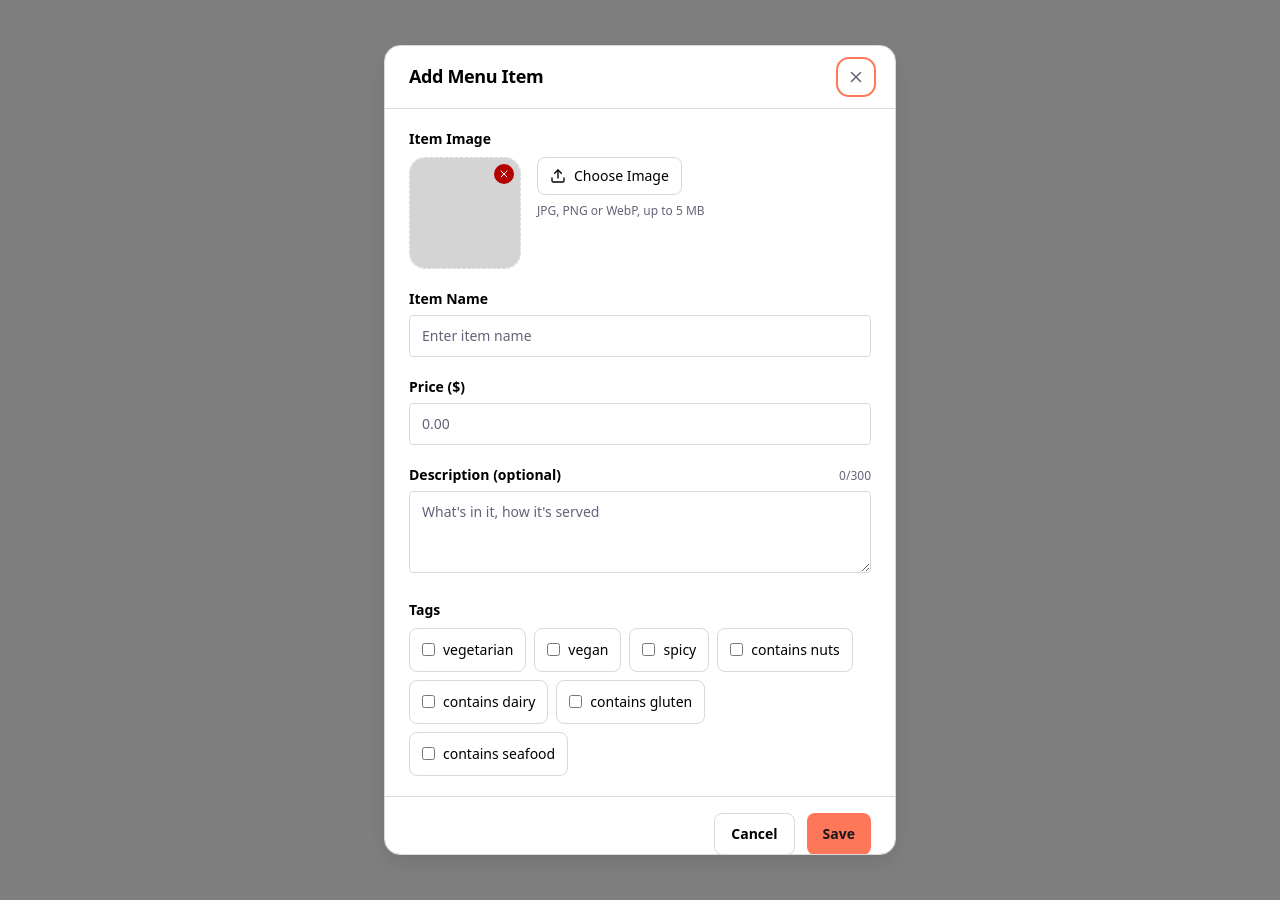
Scenario: adding an item with a photo (PHOTOS-S3) › storage refuses the type: a clear JPG, PNG or WebP message
The width and height of the screenshot is (1280, 900).
Earlier steps of the test are not shown.
Type "Fish Amok" into the field with placeholder "Enter item name" at (640, 336), box [409,315,871,357]
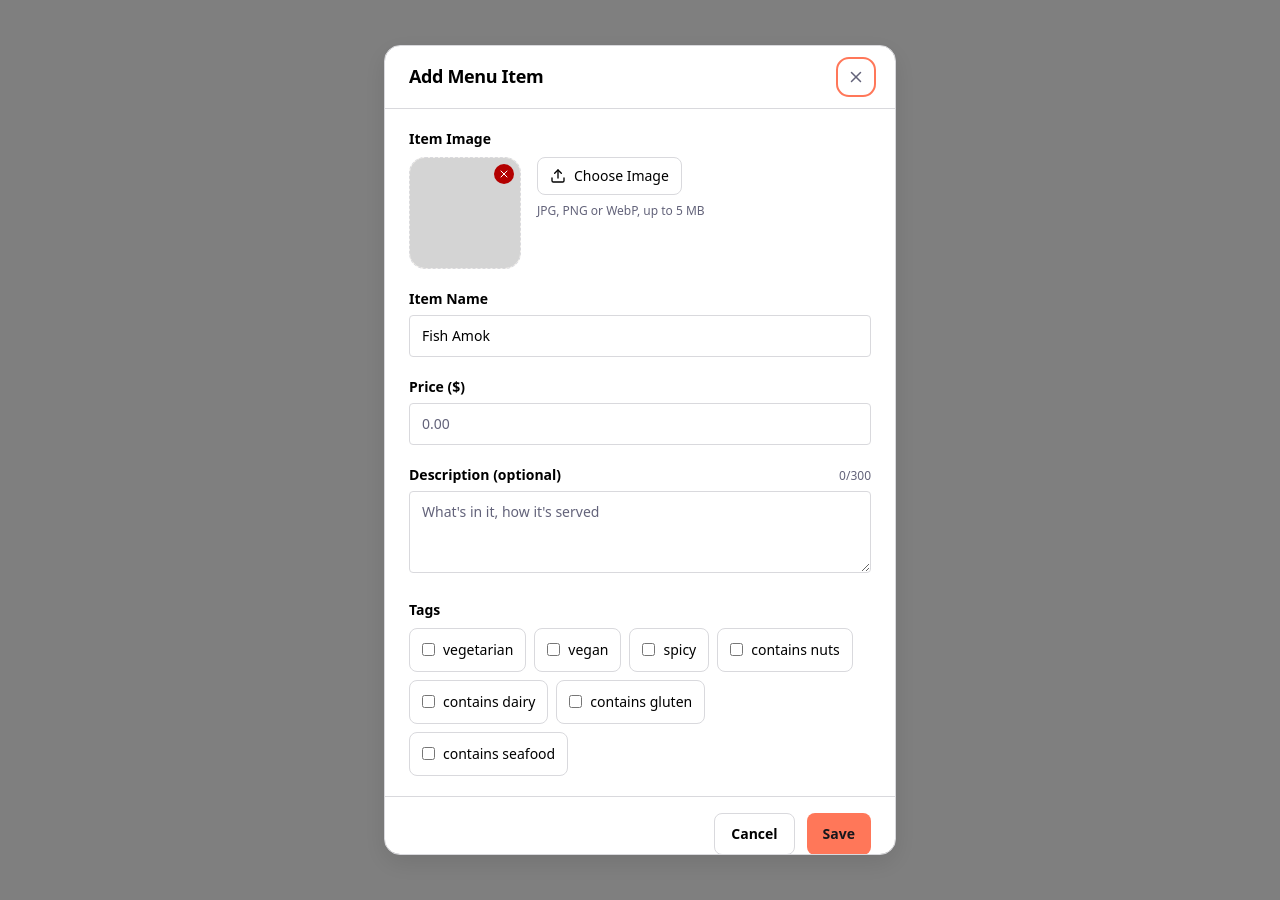
Type "5.5" into the number field with placeholder "0.00" at (640, 424), box [409,403,871,445]
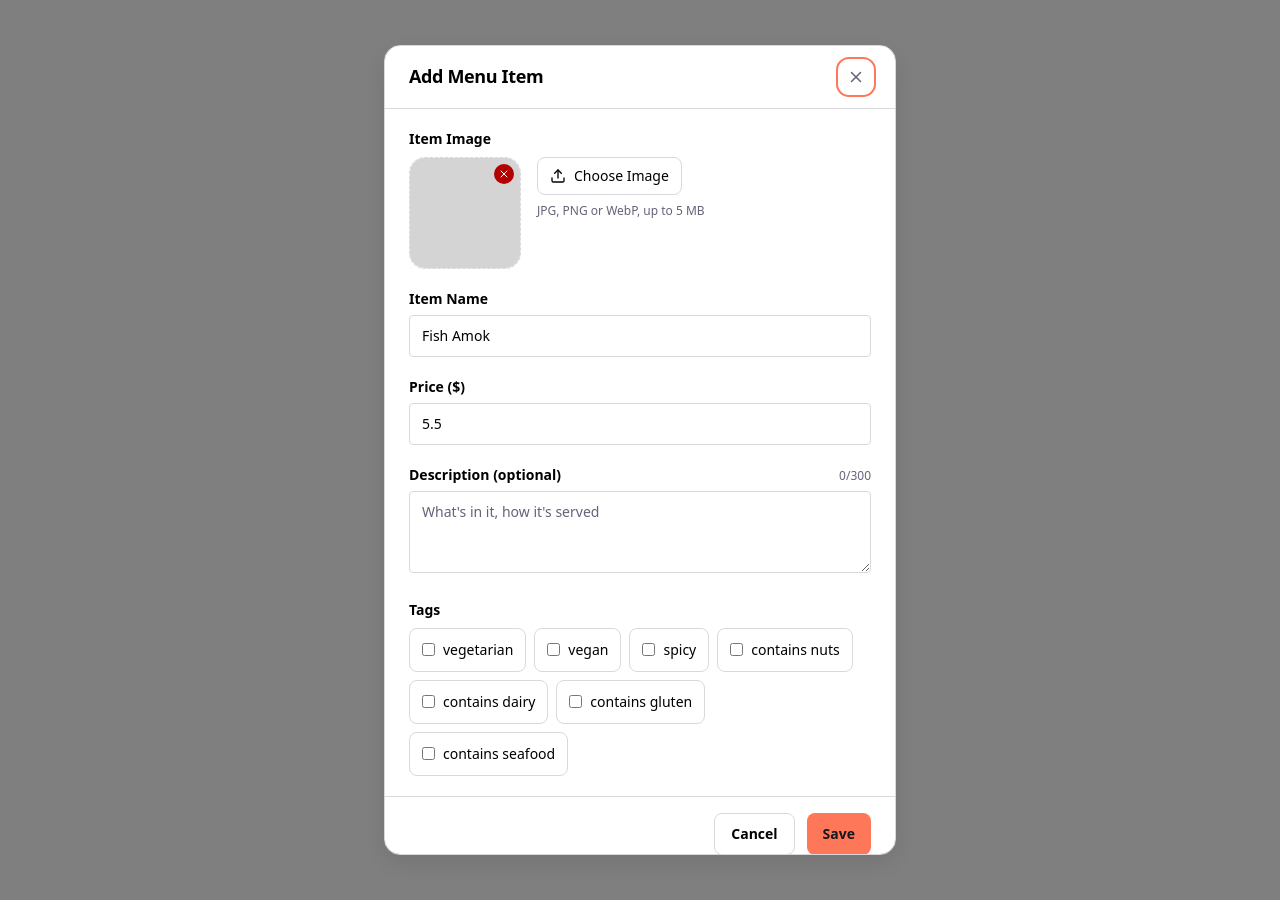
Click the button "Save" at (839, 834), box [807,813,871,855]
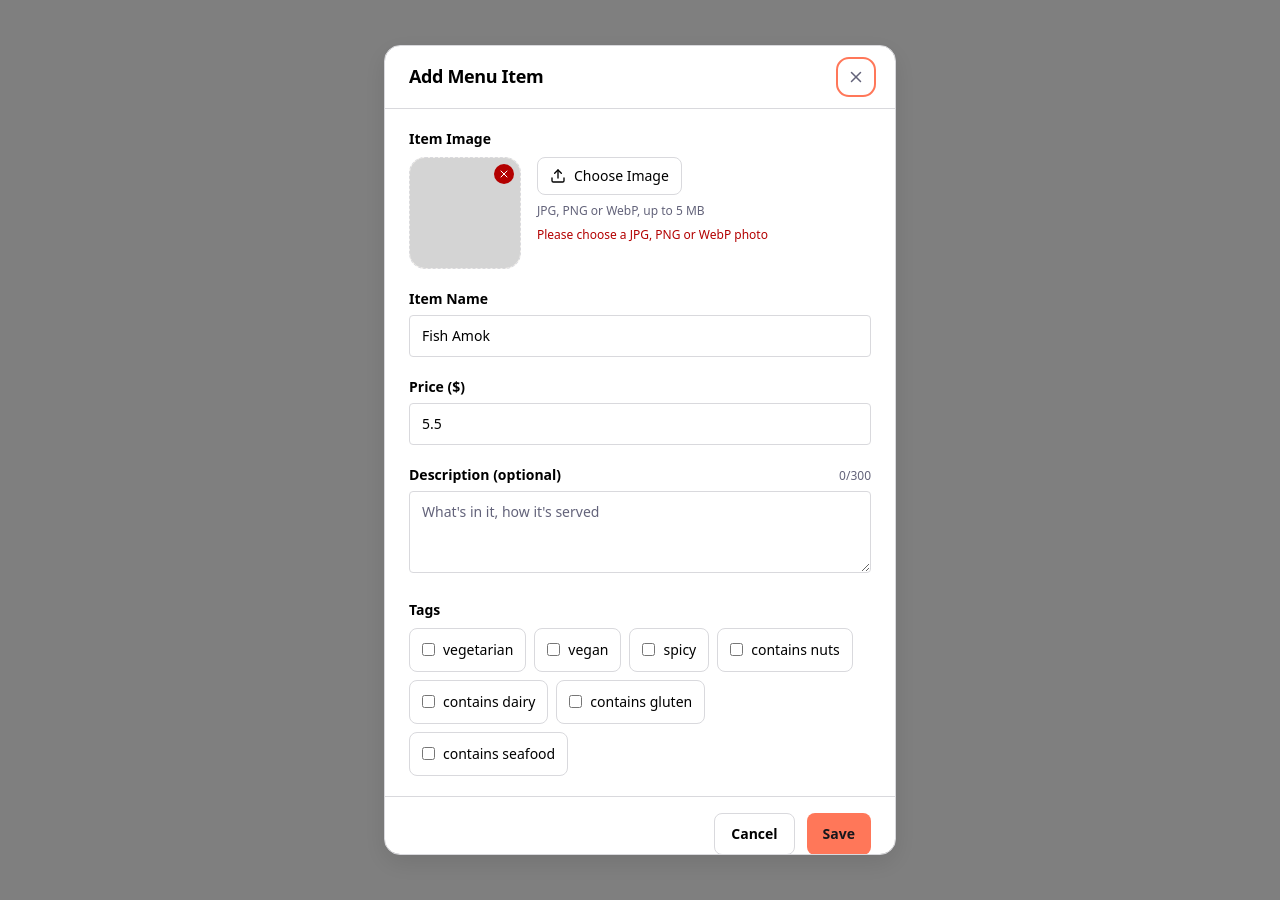
Expected: the message reads "Please choose a JPG, PNG or WebP photo", [537,226,768,243]
